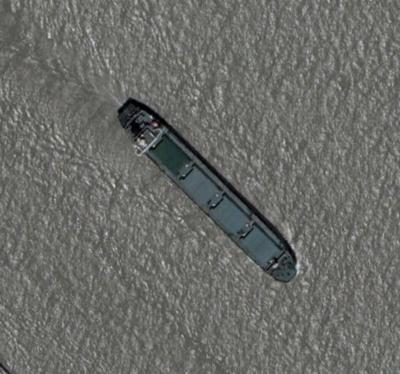Ships: (103, 92, 306, 288)
